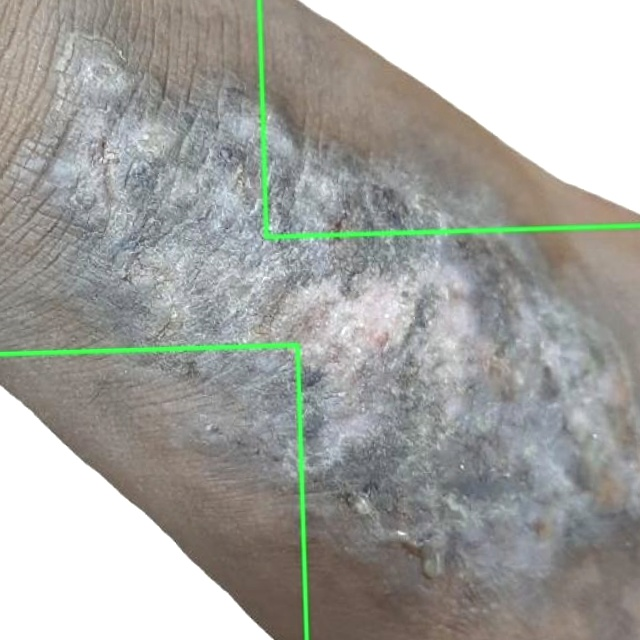Contact Dermatitis: (259, 0, 639, 236), (0, 346, 306, 639)
